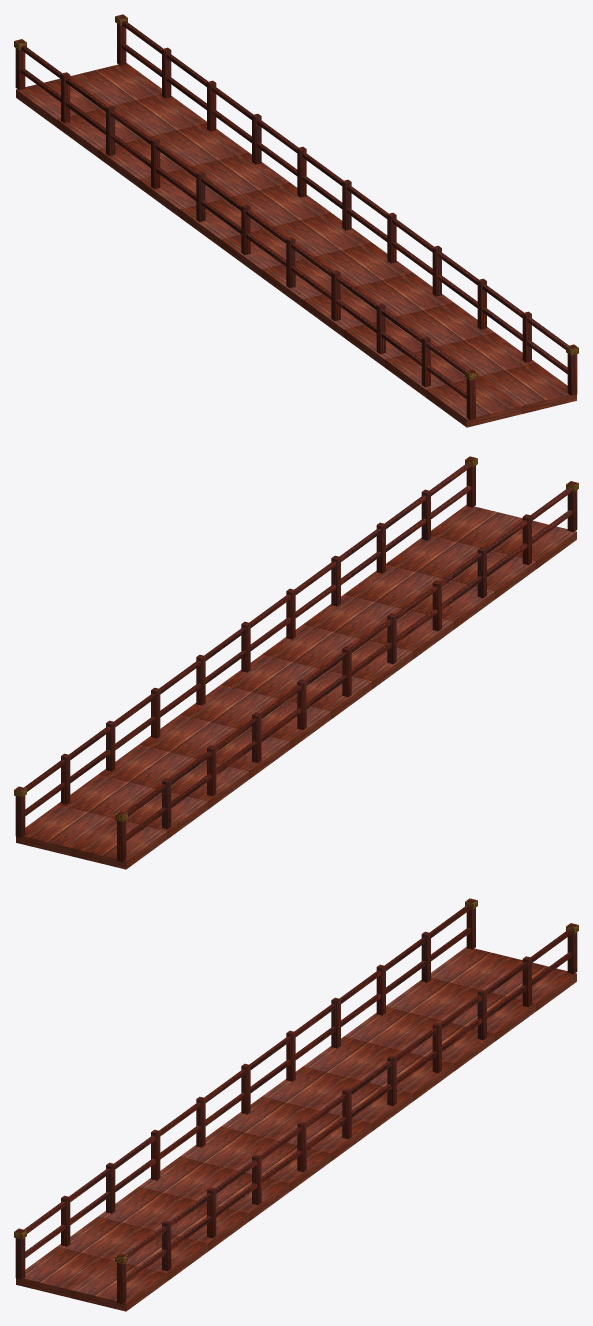
Rendered from PackFlatStair.fbx.
3 views of the same model, one above another, from view 1: azimuth 30°, elevation 25°; view 2: azimuth 150°, elevation 25°; view 3: azimuth 330°, elevation 25° (orthographic).
Visible parts, largest first — view 1: Retopo_PackFlatStair.001; view 2: Retopo_PackFlatStair.001; view 3: Retopo_PackFlatStair.001.
Part boxes in pixels (box(x1,y1,x2,y2)): Retopo_PackFlatStair.001: box(14, 14, 578, 427); Retopo_PackFlatStair.001: box(14, 456, 578, 869); Retopo_PackFlatStair.001: box(14, 898, 578, 1311).
Bounding box in the file's own units: 240 × 115 × 1718.
1 material, 1 textured.
